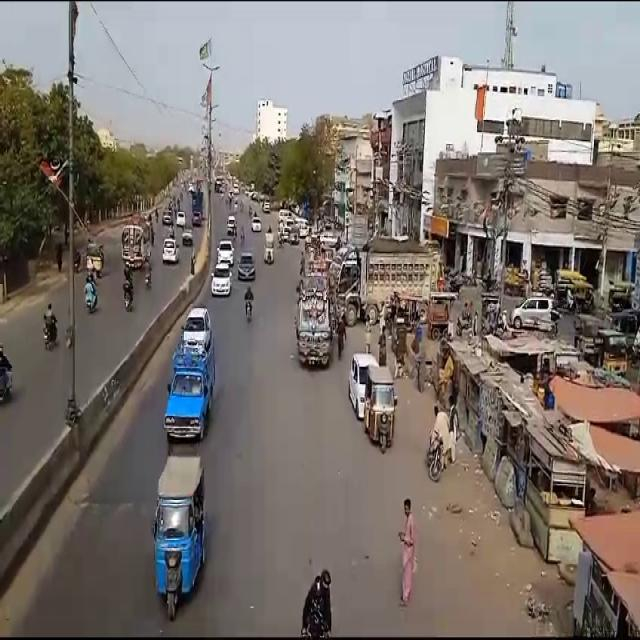car: (350, 356, 380, 420), (182, 306, 212, 351), (212, 264, 235, 296), (237, 255, 256, 281), (162, 238, 178, 264), (218, 240, 233, 262)
motorbike: (40, 296, 61, 361)
truck: (331, 237, 448, 334)
